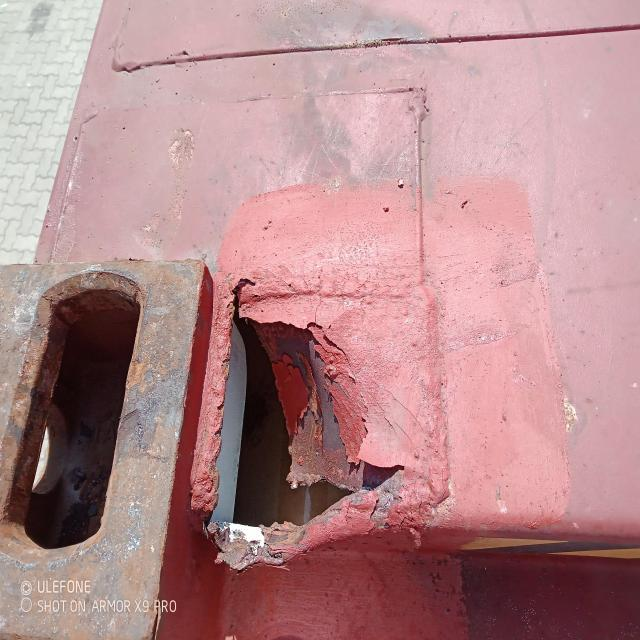hole: (219, 304, 436, 530)
